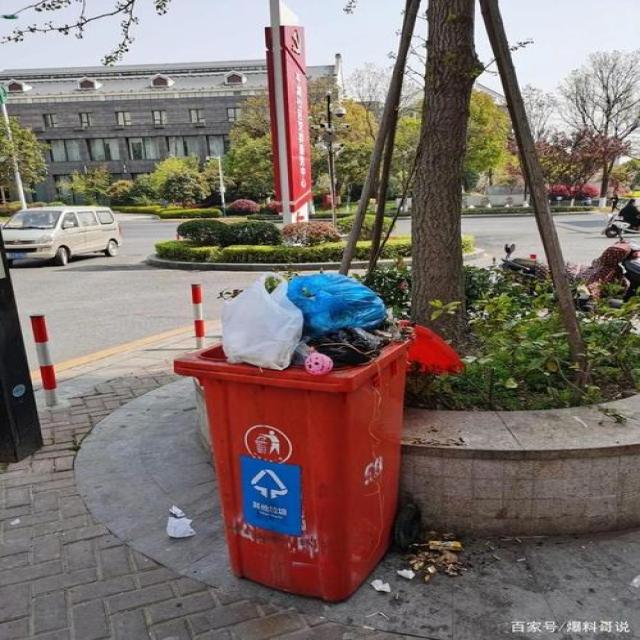overflow: (173, 274, 461, 606)
